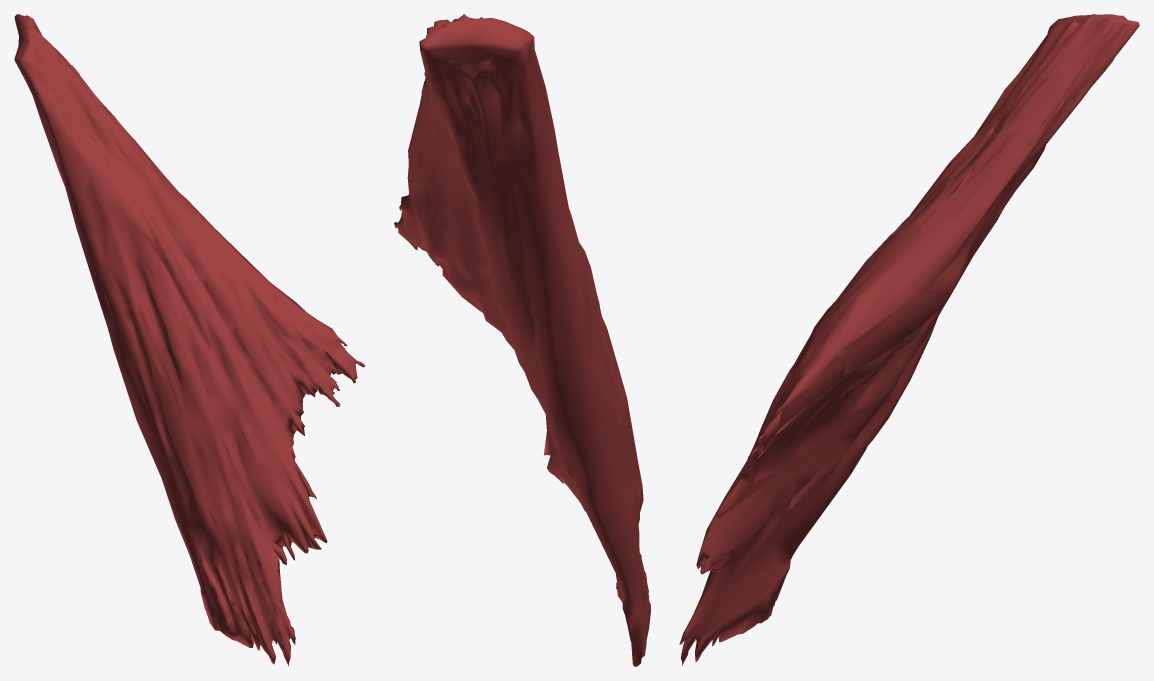
File: pectoralis-minor-muscle-r.glb
3 renders of one model, left to right at view 1: azimuth 30°, elevation 25°; view 2: azimuth 150°, elevation 25°; view 3: azimuth 270°, elevation 25°, orthographic. The views are drawn at different scales.
Parts seen in each view (by area): view 1: Pectoralis minor muscle.r; view 2: Pectoralis minor muscle.r; view 3: Pectoralis minor muscle.r.
Part boxes in pixels (box(x1,y1,x2,y2)): Pectoralis minor muscle.r: box(14, 14, 365, 666); Pectoralis minor muscle.r: box(394, 14, 650, 666); Pectoralis minor muscle.r: box(679, 14, 1139, 665).
Bounding box in the file's own units: 0.0589 × 0.139 × 0.0951.
